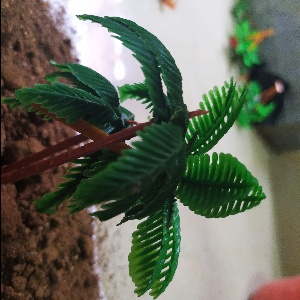plant: (2, 16, 268, 300)
